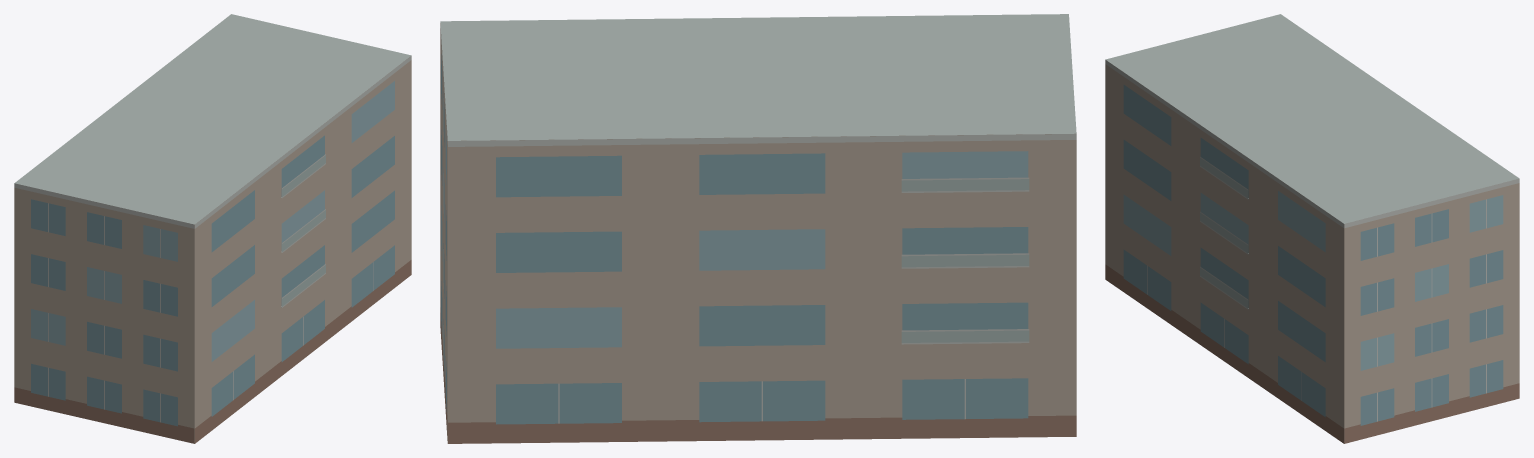
File: residential-60517e21-fa98-4db8-9404-04eba5408699.glb
3 renders of one model, left to right at view 1: azimuth 30°, elevation 25°; view 2: azimuth 150°, elevation 25°; view 3: azimuth 270°, elevation 25°, orthographic. The views are drawn at different scales.
Visible parts, largest first — view 1: residential-60517e21-fa98-4db8-9404-04eba5408699.tmp; view 2: residential-60517e21-fa98-4db8-9404-04eba5408699.tmp; view 3: residential-60517e21-fa98-4db8-9404-04eba5408699.tmp.
Part boxes in pixels (x1,y1,x2,y2): residential-60517e21-fa98-4db8-9404-04eba5408699.tmp: (14,14,411,443); residential-60517e21-fa98-4db8-9404-04eba5408699.tmp: (440,14,1076,443); residential-60517e21-fa98-4db8-9404-04eba5408699.tmp: (1105,14,1519,443).
Size of the model in its own units: 24.98 by 12.2 by 20.84.
